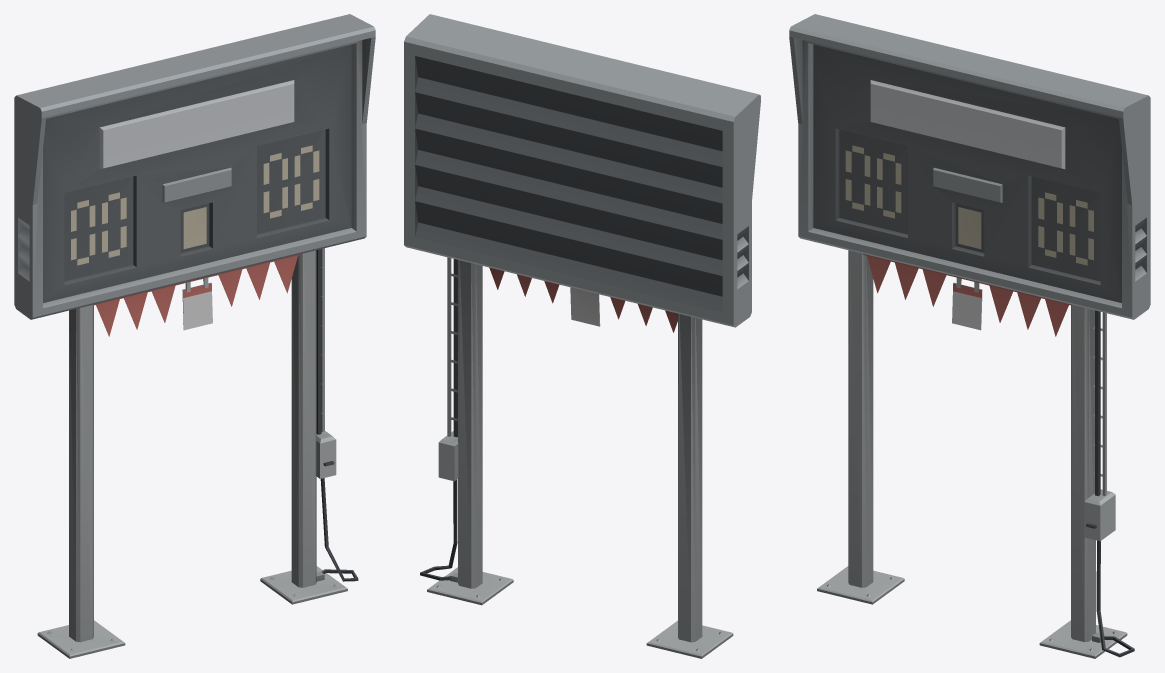
The model's file is scoreboard.glb.
The picture shows the model from 3 angles, left to right: view 1: azimuth 30°, elevation 25°; view 2: azimuth 150°, elevation 25°; view 3: azimuth 330°, elevation 25°; orthographic projection.
Parts seen in each view (by area): view 1: scoreboard.001; view 2: scoreboard.001; view 3: scoreboard.001.
Boxes of the visible parts, <box> form: scoreboard.001: <box>14,14,375,658</box>; scoreboard.001: <box>404,14,760,658</box>; scoreboard.001: <box>789,14,1150,658</box>.
Size of the model in its own units: 4.8 by 7.64 by 0.8.
